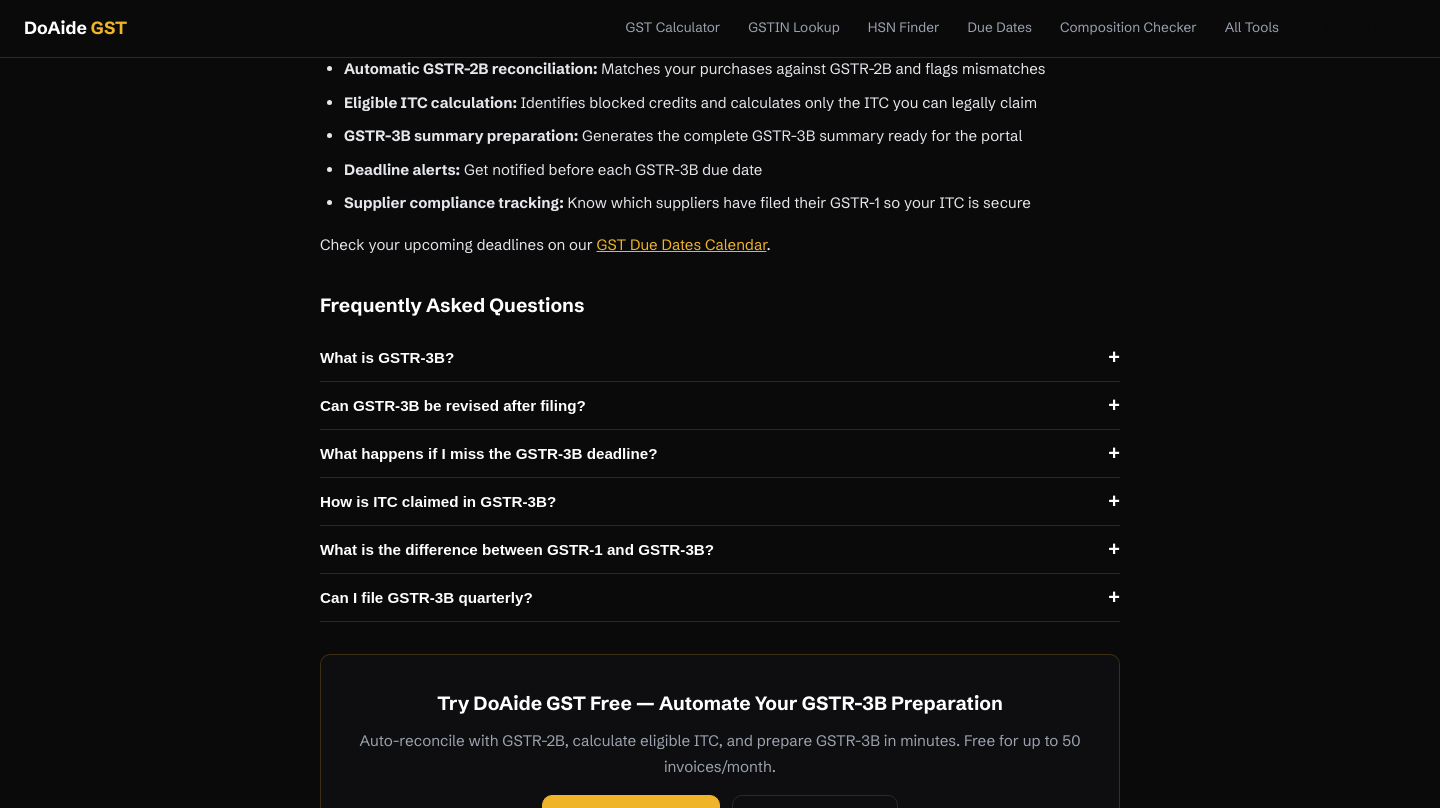
Gstr3bFilingGuide › renders FAQ with toggle
(page scrolled)
Step 1. Click the button "Can GSTR-3B be revised after filing? +" → (453, 406), box [320,382,1120,429]
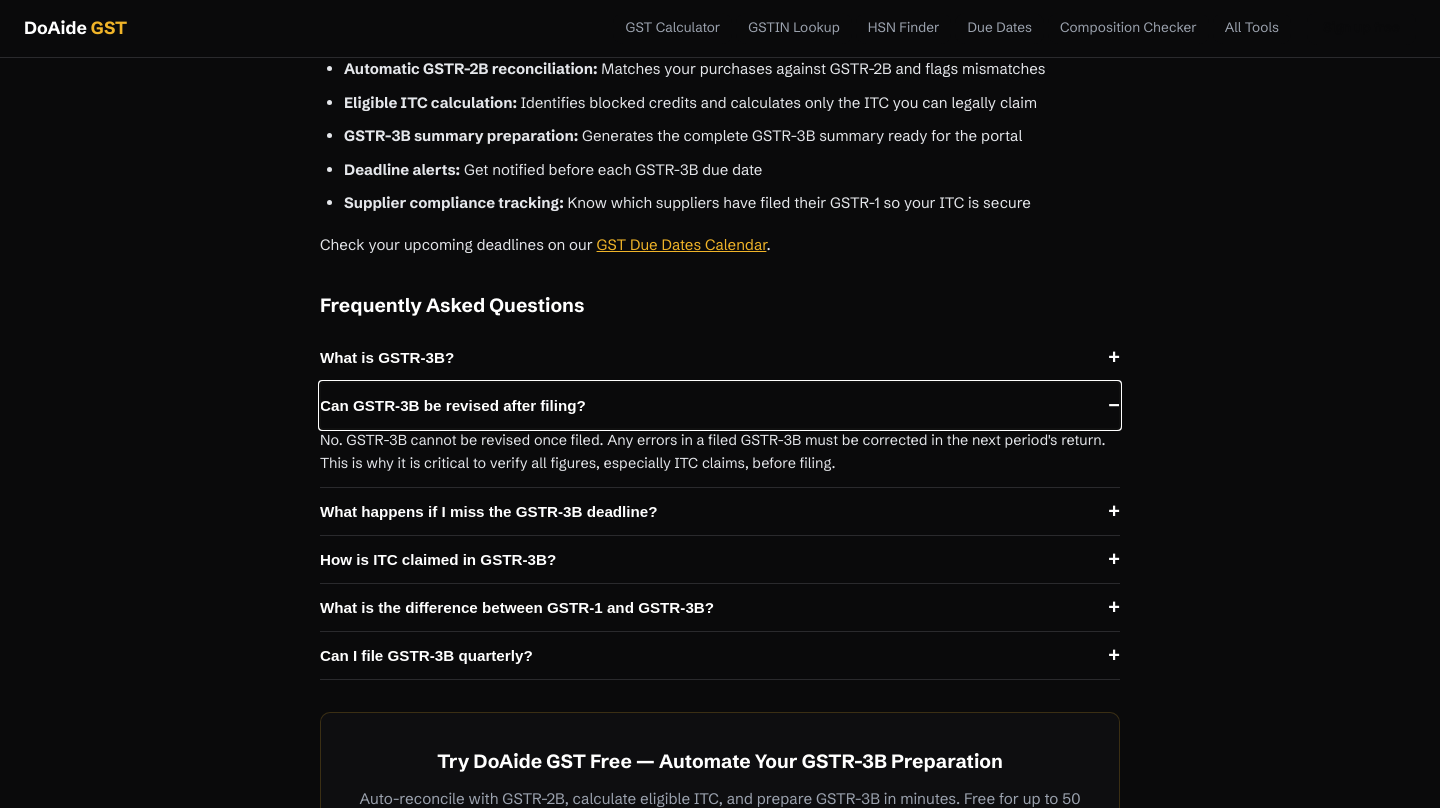
Check: the text "GSTR-3B cannot be revised once filed" is shown, box [320,431,1106,472]
